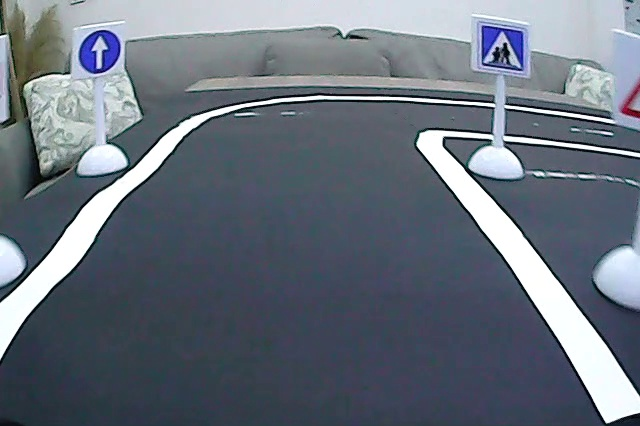school crossing: (476, 23, 527, 76)
